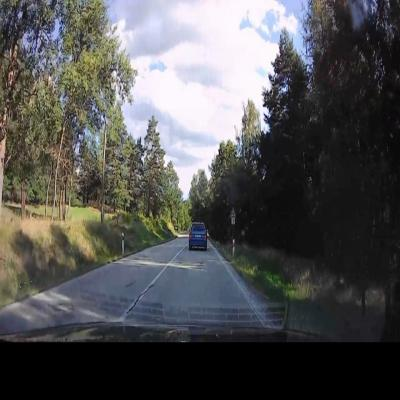clear-road: (62, 238, 248, 304)
